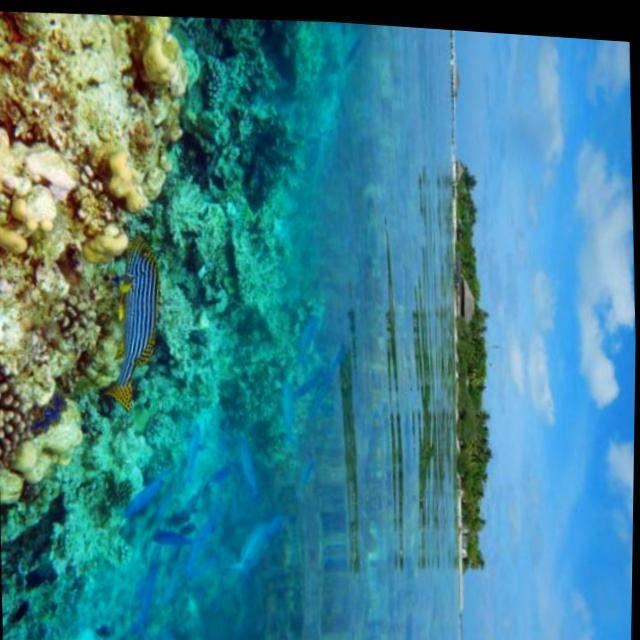Dead Coral: (0, 6, 194, 598)
